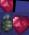lifeC: (13, 12, 29, 35), (0, 0, 13, 12)
